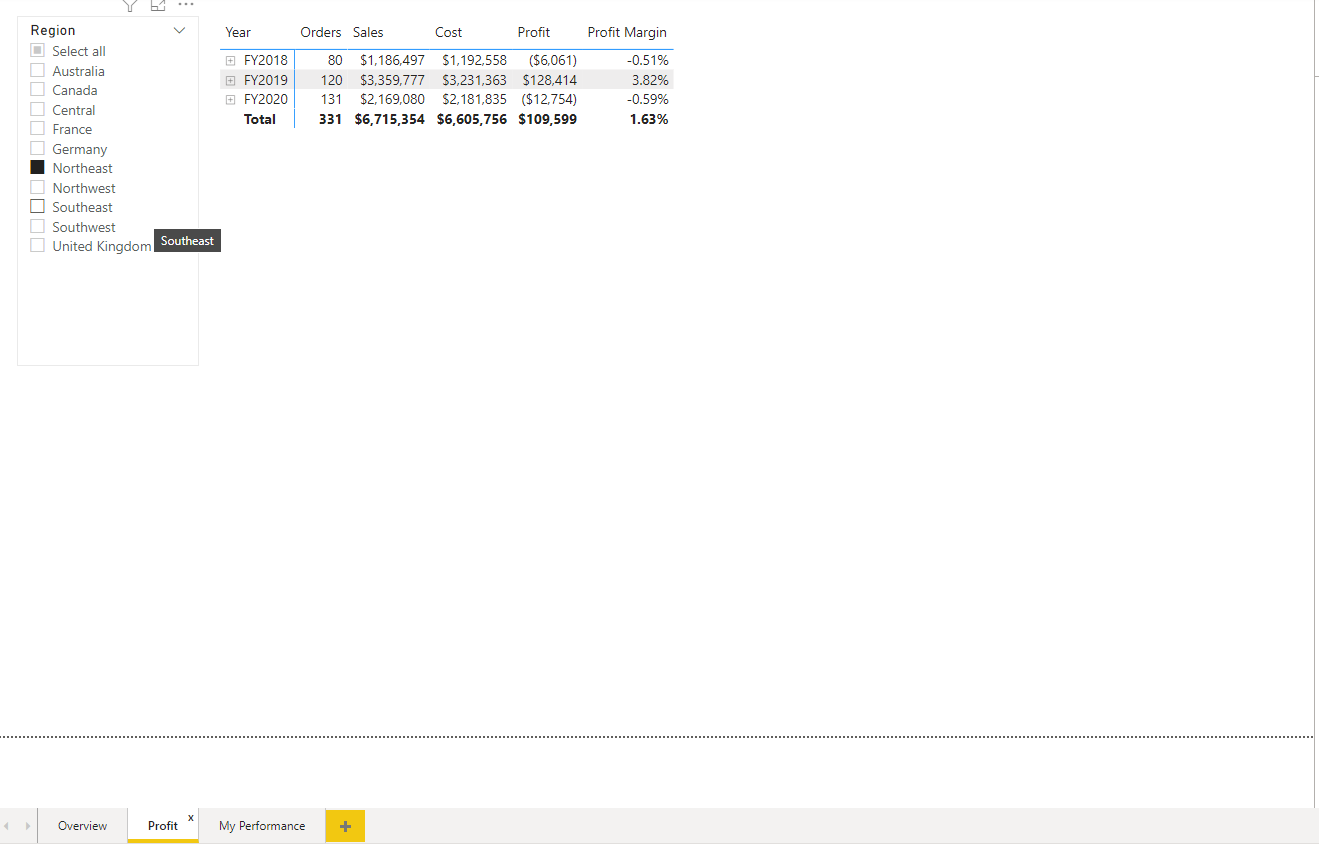

This screenshot's page, from the dashboard's own definition file:
{"tool":"powerbi","page":{"name":"Profit","canvas":[1280,720],"ordinal":1},"visuals":[{"type":"slicer","fields":{"Values":["Region.Region"]},"box":[18.5,19.5,177,340.4],"z":0},{"type":"pivotTable","fields":{"Rows":["Date.Fiscal.Year","Date.Fiscal.Quarter","Date.Fiscal.Month"],"Values":["Sales.Orders","Sum(Sales.Sales)","Sum(Sales.Cost)","Sales.Profit","Sales.Profit Margin"]},"box":[211.1,19.5,1045.6,677],"z":1000}]}

Visuals, with their boxes on the page's 1280x720 design canvas (x1, y1, x2, y2). These are canvas units, not pixel positions in the 1319x844 screenshot, which may show the page scaled, cropped or inside an application window:
slicer - Region.Region: 18,20,196,360
pivotTable - Date.Fiscal.Year x Date.Fiscal.Quarter: 211,20,1257,696
